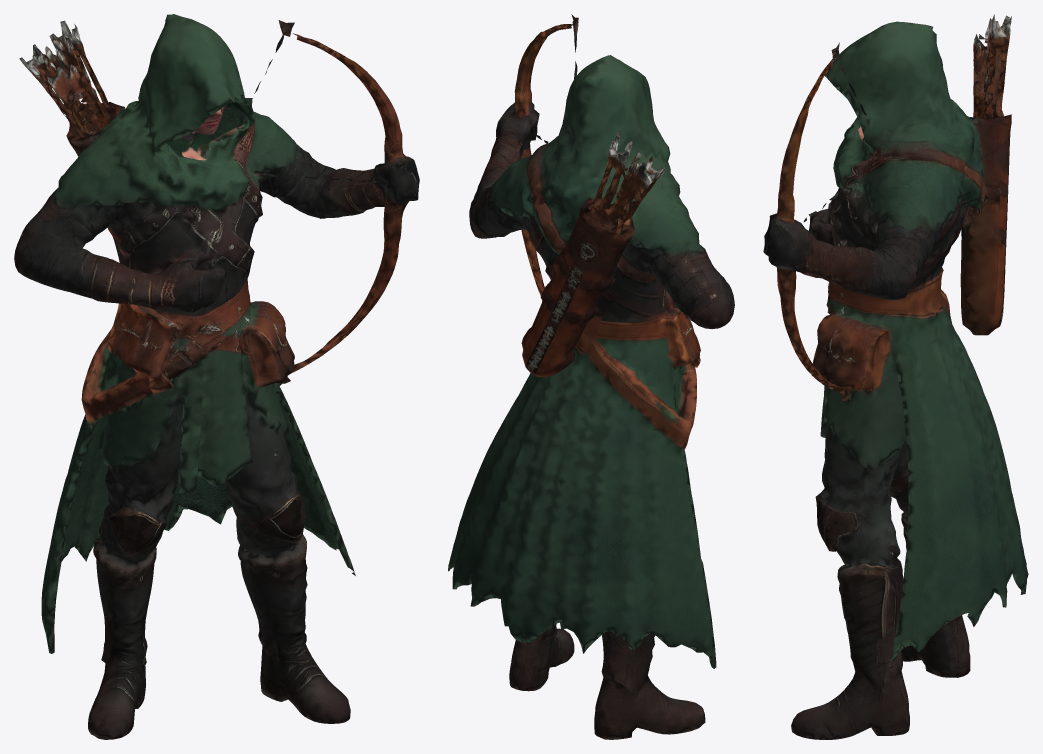
The model's file is player_ranger.glb.
3 renders of one model, left to right at view 1: azimuth 30°, elevation 25°; view 2: azimuth 150°, elevation 25°; view 3: azimuth 270°, elevation 25°, orthographic. The views are drawn at different scales.
Parts seen in each view (by area): view 1: Mesh_0; view 2: Mesh_0; view 3: Mesh_0.
Part boxes in pixels (box(x1,y1,x2,y2)): Mesh_0: box(14, 14, 419, 739); Mesh_0: box(448, 14, 734, 739); Mesh_0: box(763, 14, 1028, 739).
Size of the model in its own units: 0.8701 by 1.8 by 0.6415.
Materials: 1 (1 with a texture image).
